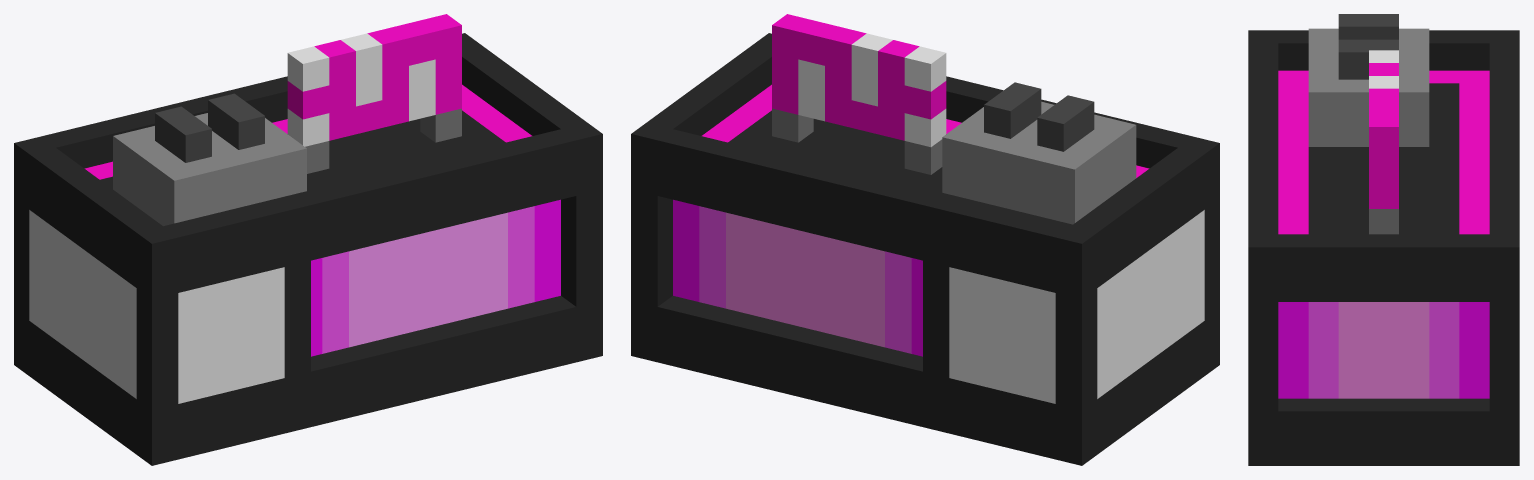
The model's file is building-8.obj.
The picture shows the model from 3 angles, left to right: view 1: azimuth 30°, elevation 25°; view 2: azimuth 150°, elevation 25°; view 3: azimuth 270°, elevation 25°; orthographic projection.
Size of the model in its own units: 1.7 by 1.1 by 0.9.
1 material, 1 textured.
